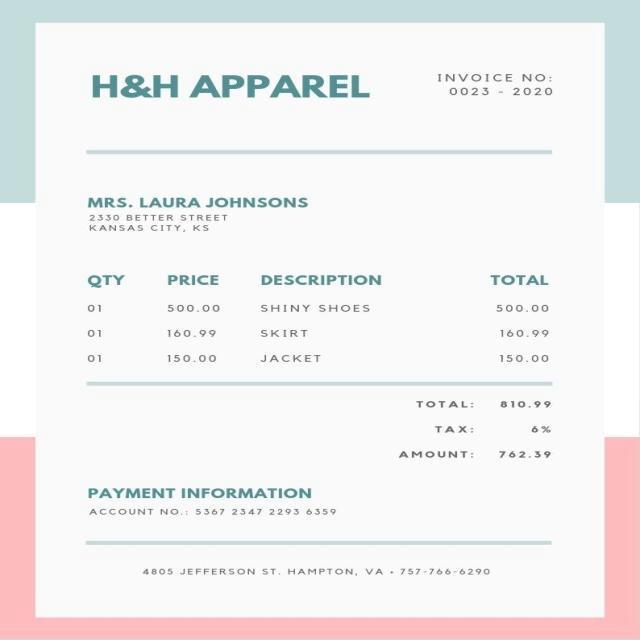paragraph: (87, 483, 344, 528), (396, 398, 566, 466), (85, 193, 315, 234), (88, 70, 372, 102), (140, 565, 495, 582), (436, 68, 559, 101)
table: (75, 268, 563, 371)
